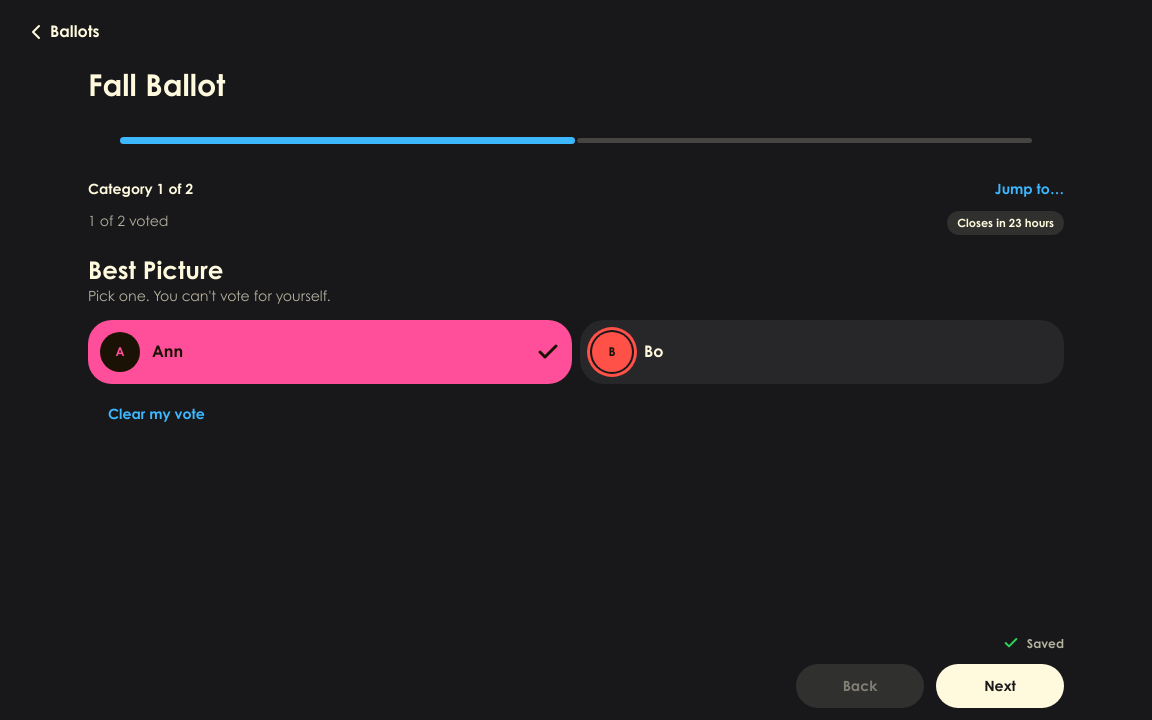
Test: VotePage review step › lists picks, flags skipped categories, and Finish voting goes to submit
Expected: the element "Best Picture" is shown, top-left (88, 255), bottom-right (1064, 436)
Click the button "Next".
click(1000, 686)  # box top-left (936, 664), bottom-right (1064, 708)
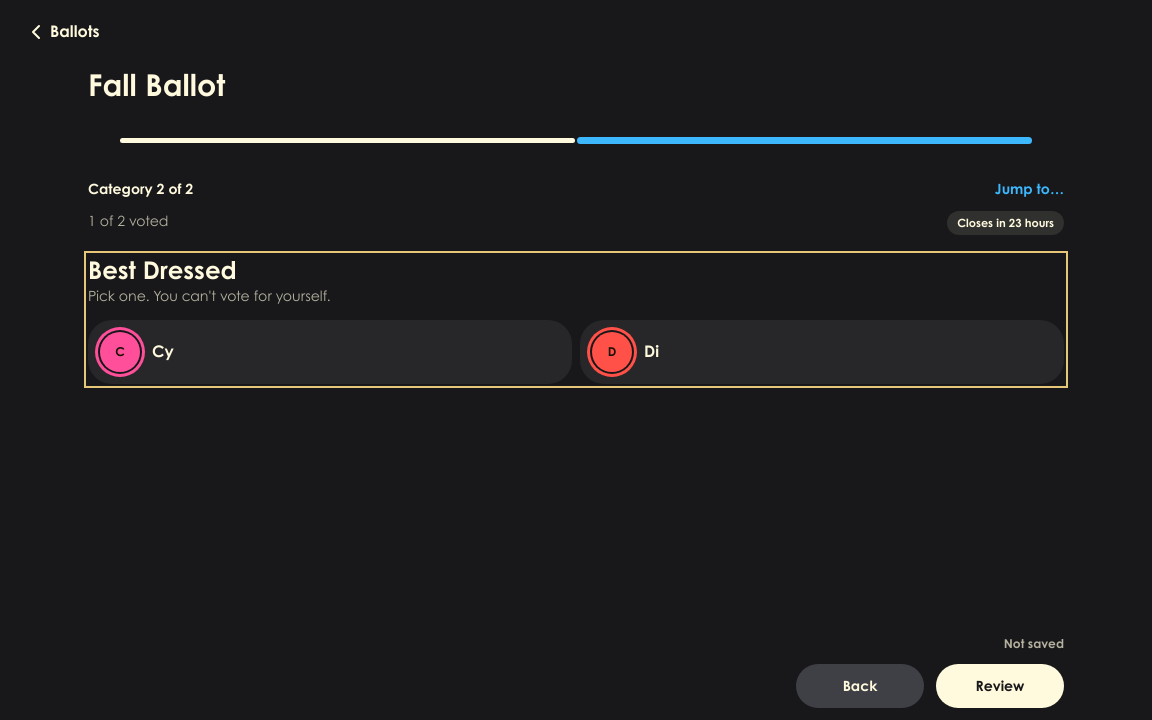
Click the button "Review".
click(1000, 686)  # box top-left (936, 664), bottom-right (1064, 708)
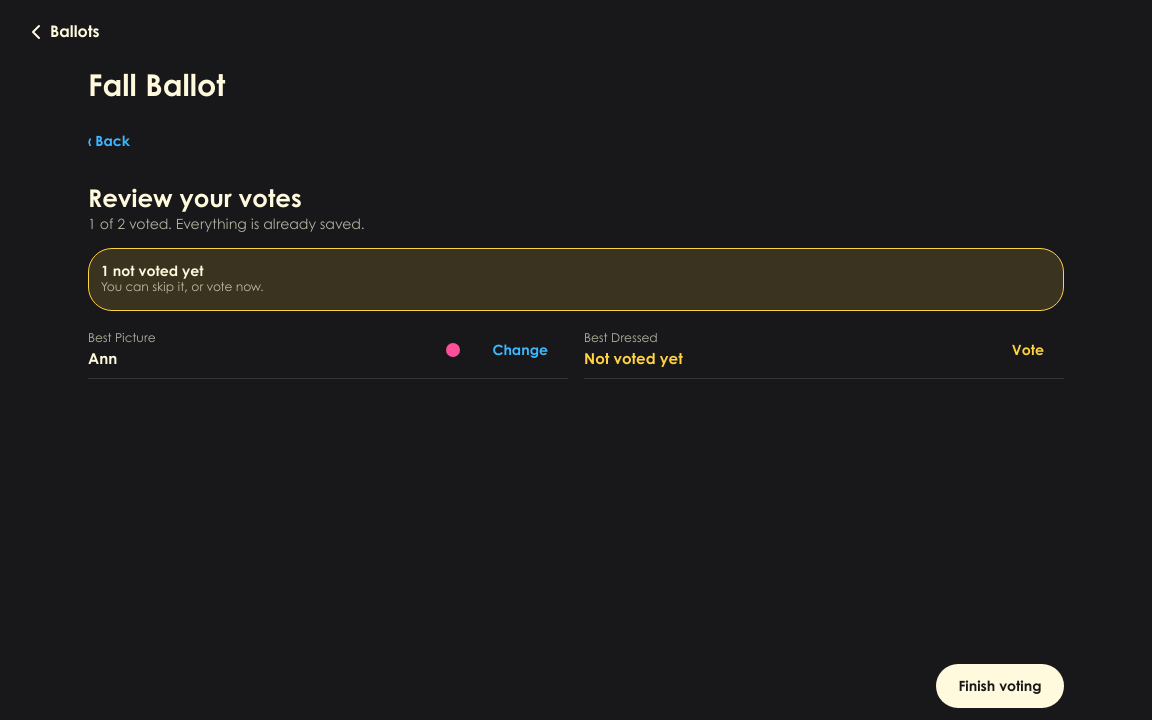
Expected: the text "Ann" is shown, top-left (88, 349), bottom-right (117, 367)
Expected: the text "1 not voted yet" is shown, top-left (101, 262), bottom-right (203, 279)
Expected: the text "Category 2 of 2" is gone
Click the button "‹ Back".
click(109, 141)  # box top-left (68, 119), bottom-right (150, 163)
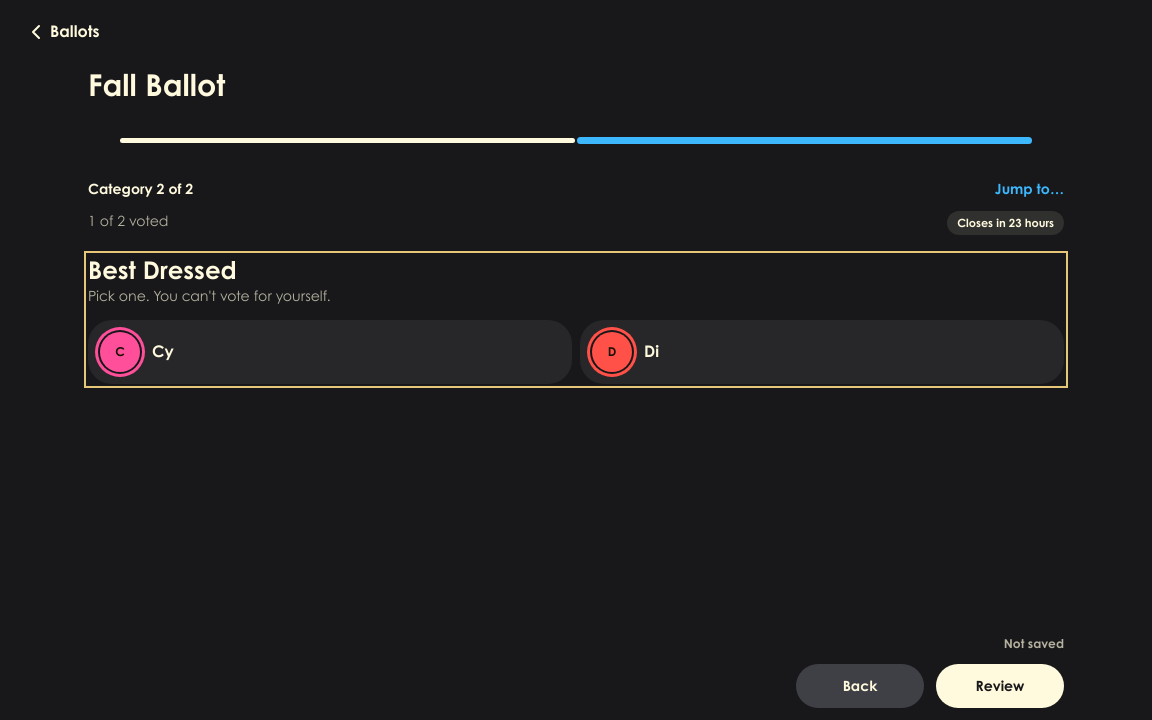
Expected: the heading "Review your votes" is gone
Click the button "Review".
click(1000, 686)  # box top-left (936, 664), bottom-right (1064, 708)
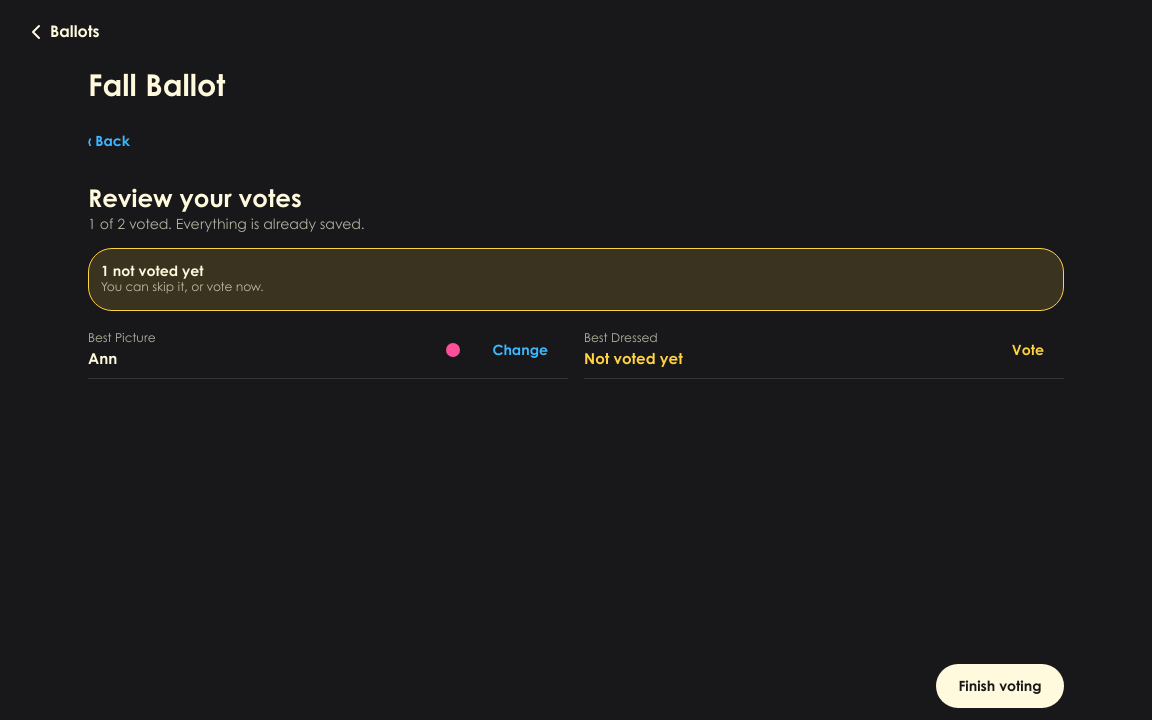
Click the button with aria-label "vote in best dressed".
click(1028, 350)  # box top-left (992, 328), bottom-right (1064, 372)
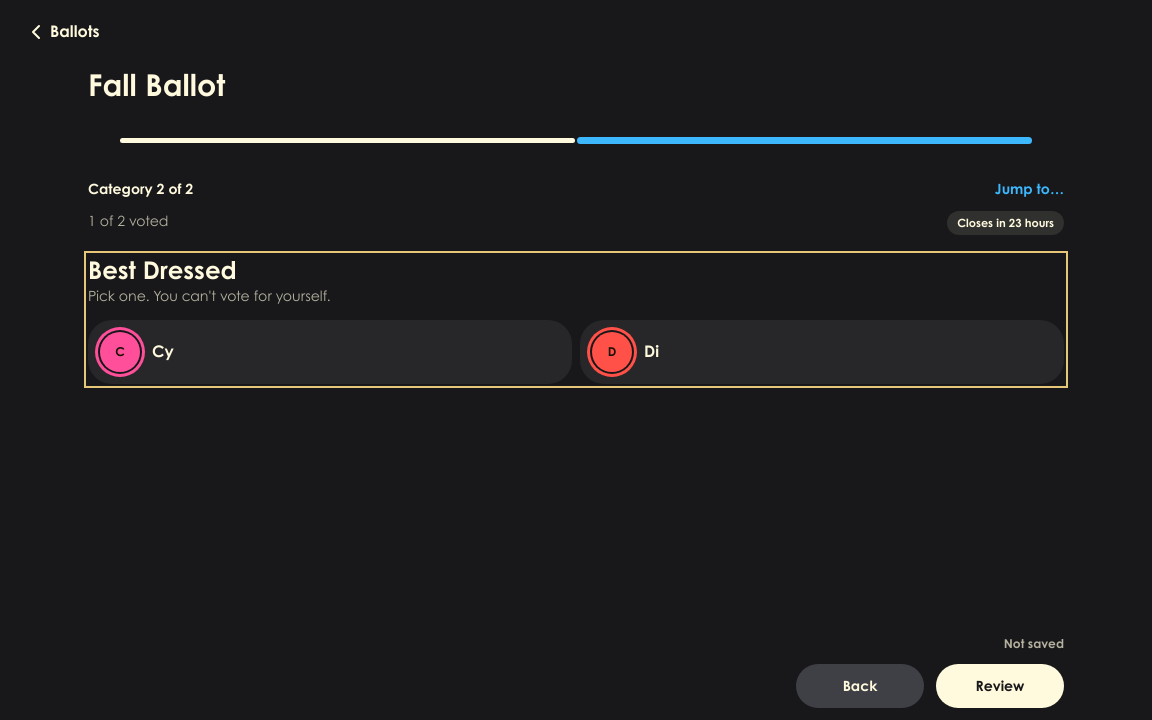
Expected: the heading "Review your votes" is gone
